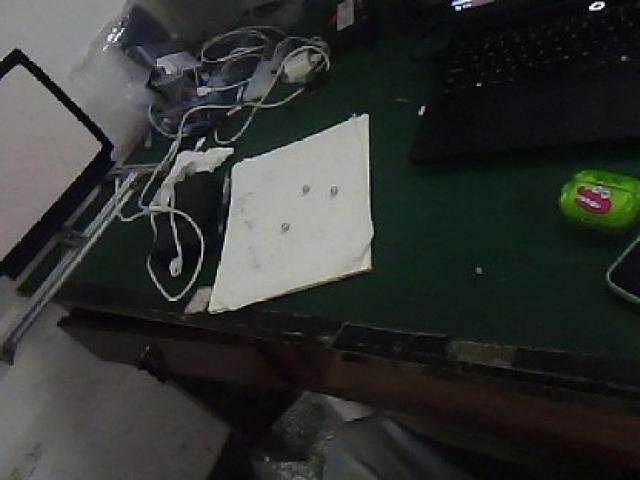steel-ball: (260, 206, 292, 242), (289, 174, 317, 198), (323, 172, 346, 196)
